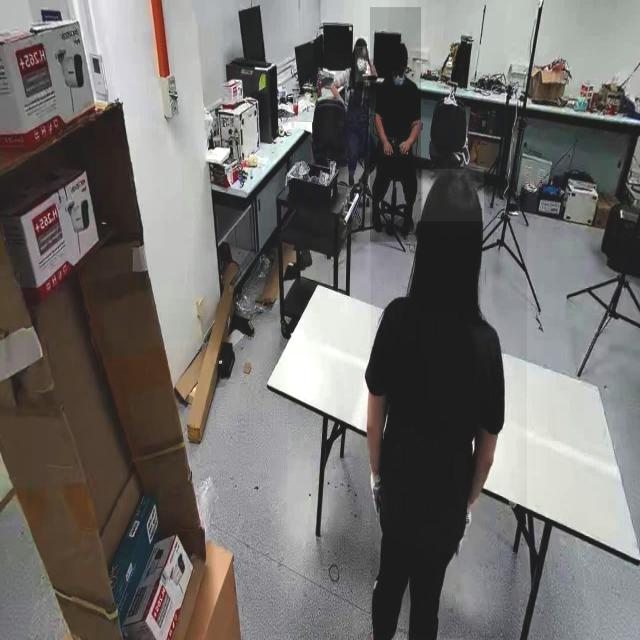face_mask: (391, 60, 407, 94), (354, 46, 368, 83)
hand_noglove: (399, 138, 413, 156), (382, 139, 394, 157)
head_nohelmet: (422, 169, 484, 222), (391, 40, 408, 60), (354, 36, 368, 49)
person: (370, 175, 527, 639), (369, 7, 421, 242), (330, 42, 372, 198)
